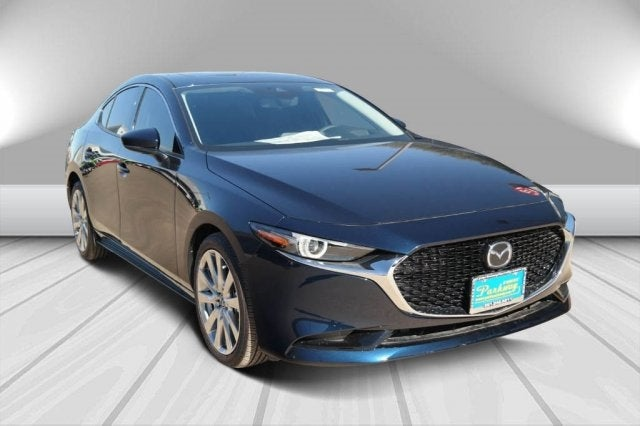Mazda3 Hatchback: (65, 71, 576, 372)
